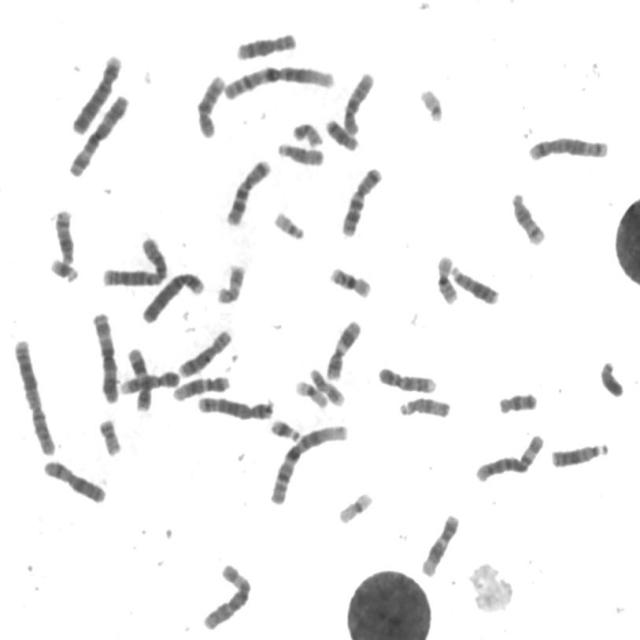A1: (266, 418, 352, 506), (219, 58, 338, 102)
A2: (10, 333, 59, 457), (98, 232, 170, 288)
A3: (66, 88, 132, 179), (88, 307, 121, 405)
B4: (68, 47, 124, 136), (138, 267, 207, 325)
B5: (525, 132, 612, 162), (194, 391, 277, 422)
C10: (339, 66, 377, 136), (193, 68, 228, 140)
C11: (322, 315, 363, 381), (124, 343, 155, 412)
C12: (418, 508, 462, 578), (169, 370, 233, 402)
C6: (198, 558, 254, 631), (472, 429, 546, 483)
C7: (222, 153, 274, 227), (338, 160, 386, 238)
C8: (175, 324, 235, 379), (233, 27, 300, 62)
C9: (374, 361, 439, 395), (116, 365, 182, 395)
D13: (448, 260, 502, 306), (548, 437, 612, 469)
D14: (508, 187, 548, 246), (51, 204, 77, 266)
D15: (396, 392, 454, 420), (275, 138, 327, 168)
E16: (326, 261, 375, 300), (433, 249, 461, 305)
E17: (306, 363, 347, 408), (213, 258, 248, 306)
E18: (322, 113, 361, 152), (495, 386, 541, 416)
F19: (334, 487, 376, 525), (291, 374, 331, 410)
F20: (95, 413, 125, 457), (289, 117, 325, 148)
G21: (267, 414, 304, 443), (47, 253, 81, 284)
G22: (270, 206, 308, 241), (416, 82, 446, 124)
X: (40, 455, 110, 505)
Y: (597, 356, 627, 399)
